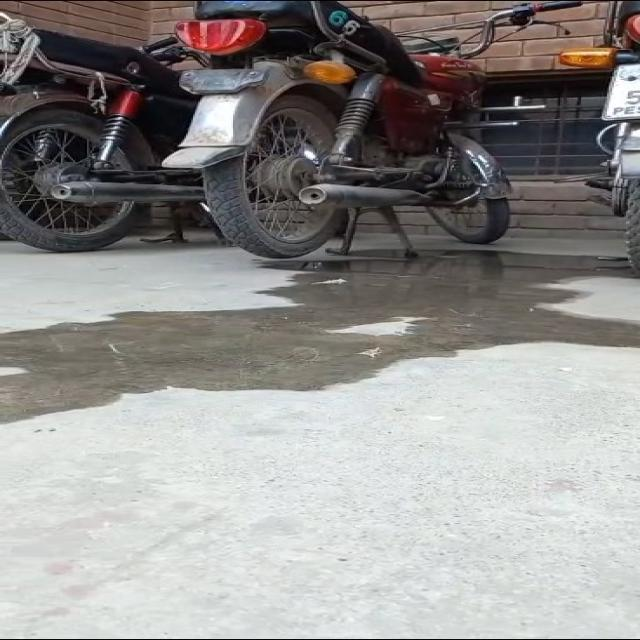water accumulation: (0, 241, 640, 431)
